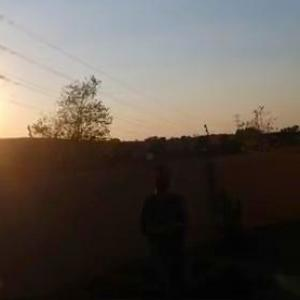follow: (136, 159, 200, 299)
